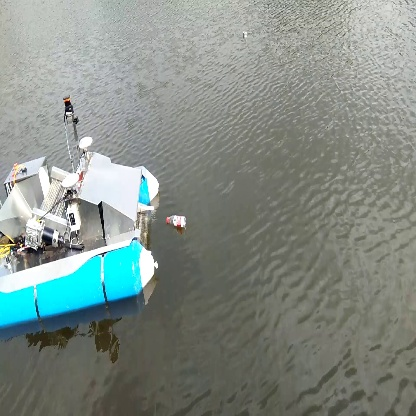bottle: (163, 210, 192, 233)
